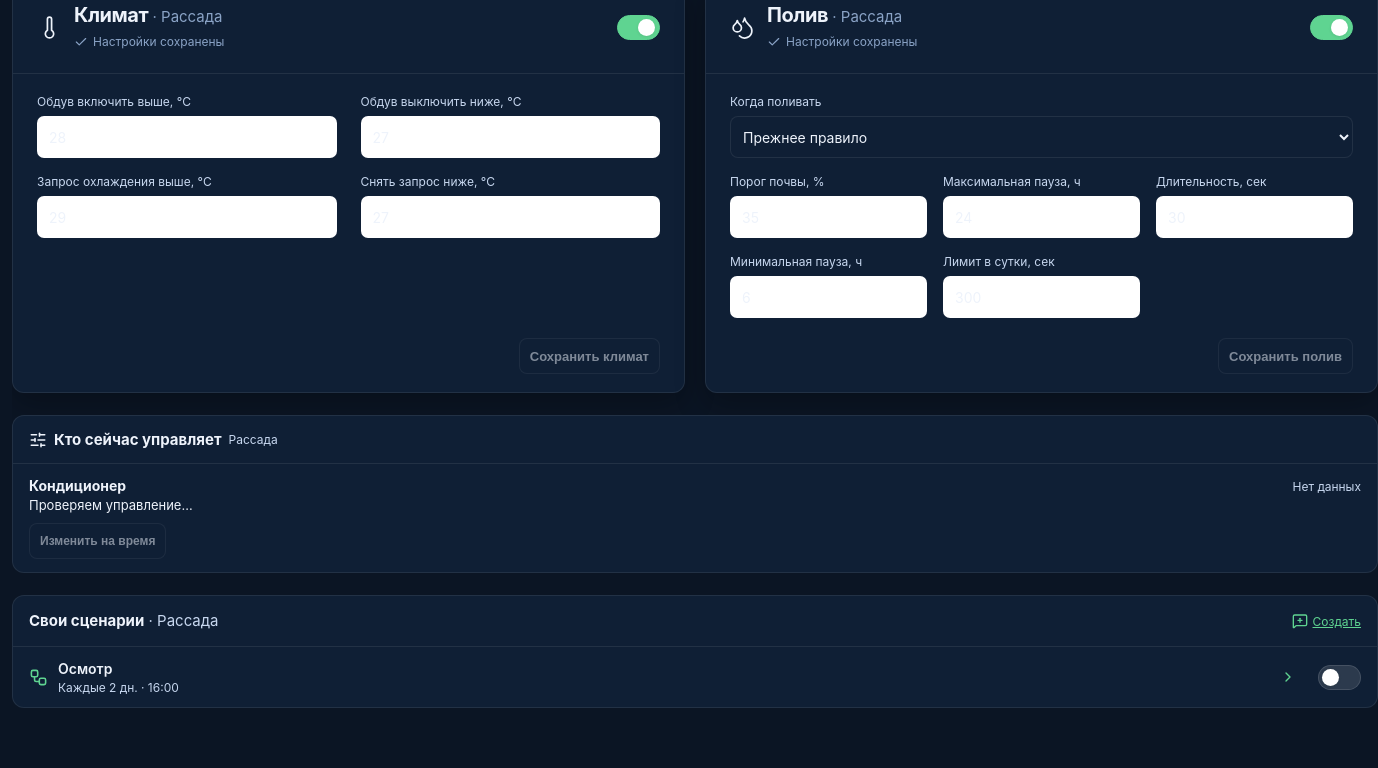
Scenario: AppAutomations › refreshes actual state after a concurrent change without sending a second command
(page scrolled)
What coordinates should you click on to do the following:
click the switch named "Сценарий: Осмотр"
I would click on:
 (1340, 677)
Its box is x1=1318 y1=665 x2=1361 y2=690.
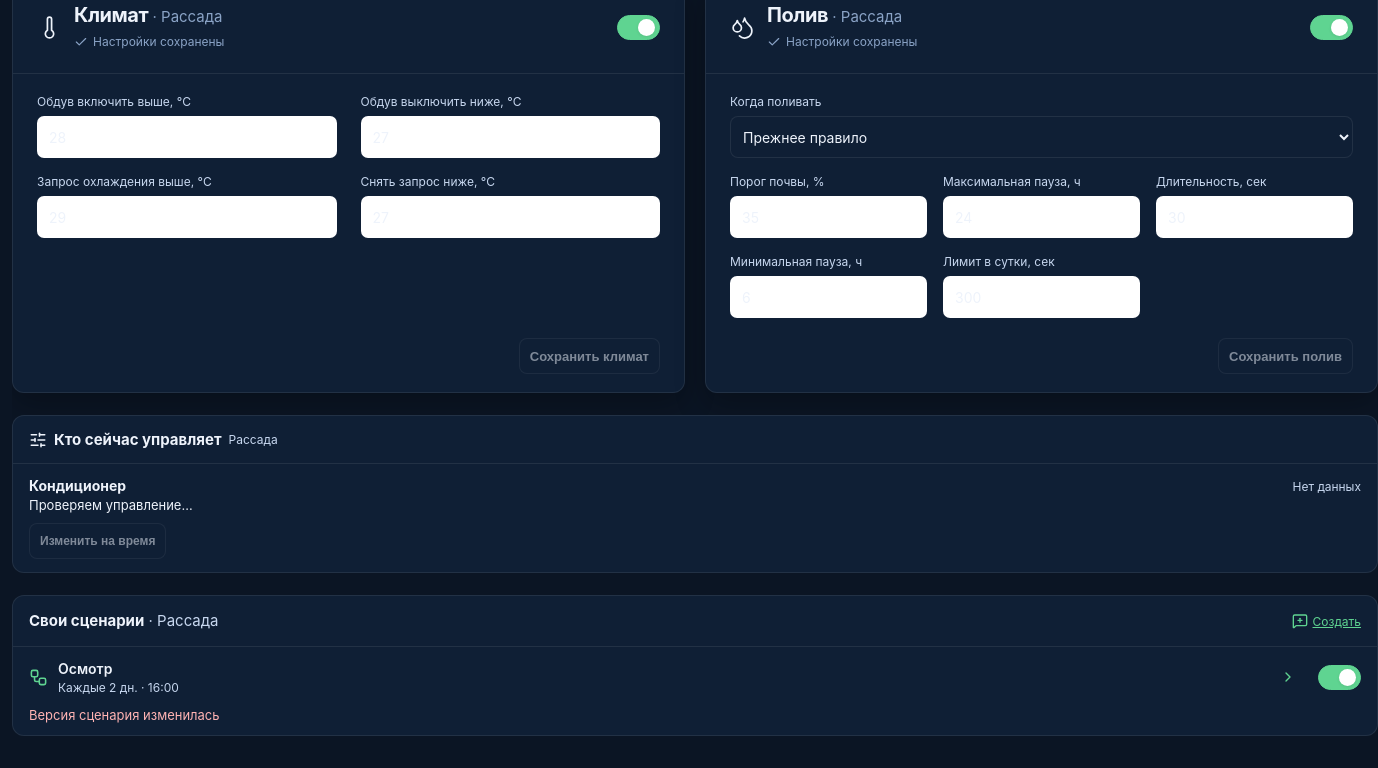
Check: the switch named "Сценарий: Осмотр" is checked, box x1=1318 y1=665 x2=1361 y2=690
Check: the message reads "Версия сценария изменилась", box x1=29 y1=707 x2=220 y2=723
